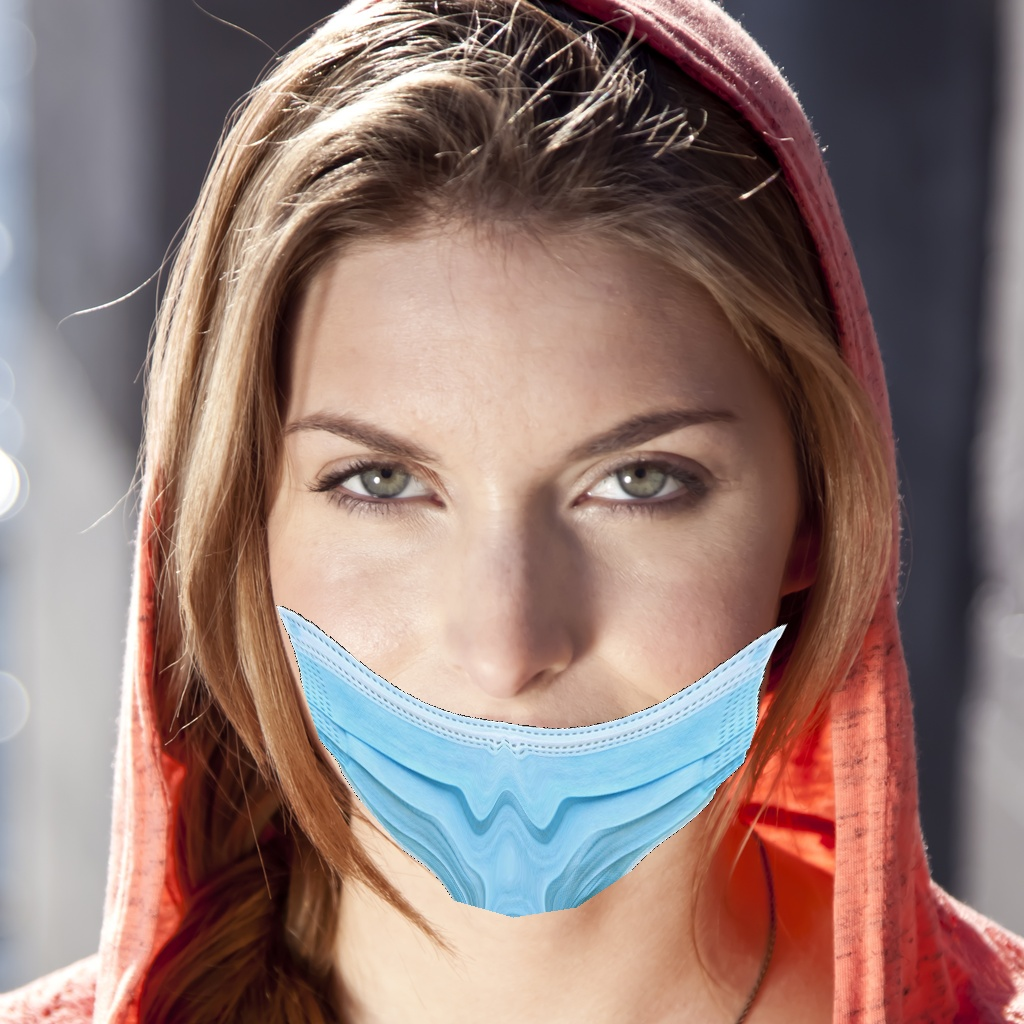mascarilla_mal_puesta: (249, 423, 807, 905)
